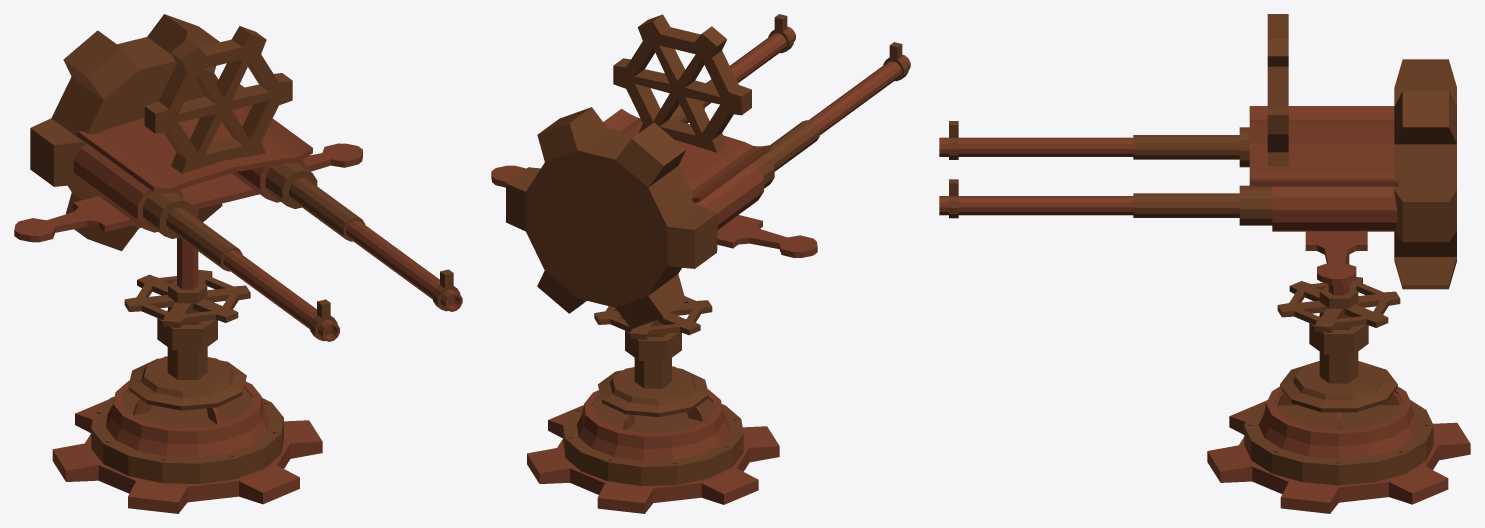
Rendered from Gun_8.glb.
The picture shows the model from 3 angles, left to right: view 1: azimuth 30°, elevation 25°; view 2: azimuth 150°, elevation 25°; view 3: azimuth 270°, elevation 25°; orthographic projection. The views are drawn at different scales.
Parts seen in each view (by area): view 1: Gun_8_Gun, Gun_8_Base, Gun_8_Mid; view 2: Gun_8_Gun, Gun_8_Base, Gun_8_Mid; view 3: Gun_8_Gun, Gun_8_Base, Gun_8_Mid.
Boxes of the visible parts, left/top/right/bottom form: Gun_8_Gun: left=14, top=14, right=462, bottom=341; Gun_8_Base: left=52, top=356, right=322, bottom=513; Gun_8_Mid: left=124, top=209, right=250, bottom=379; Gun_8_Gun: left=491, top=14, right=910, bottom=328; Gun_8_Base: left=527, top=366, right=779, bottom=513; Gun_8_Mid: left=594, top=296, right=712, bottom=388; Gun_8_Gun: left=939, top=14, right=1456, bottom=289; Gun_8_Base: left=1207, top=361, right=1470, bottom=513; Gun_8_Mid: left=1277, top=255, right=1400, bottom=383.
Size of the model in its own units: 2.02 by 2.51 by 2.78.
